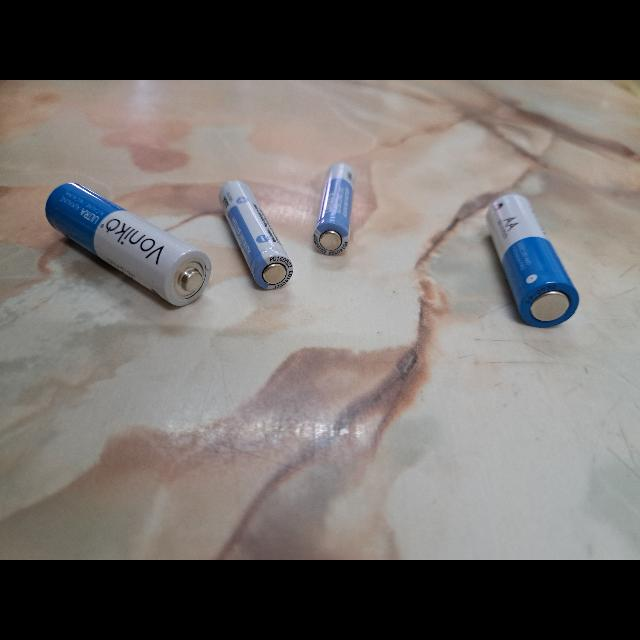bateria: (46, 182, 212, 308), (485, 194, 579, 330), (220, 180, 294, 292), (312, 164, 356, 256)
